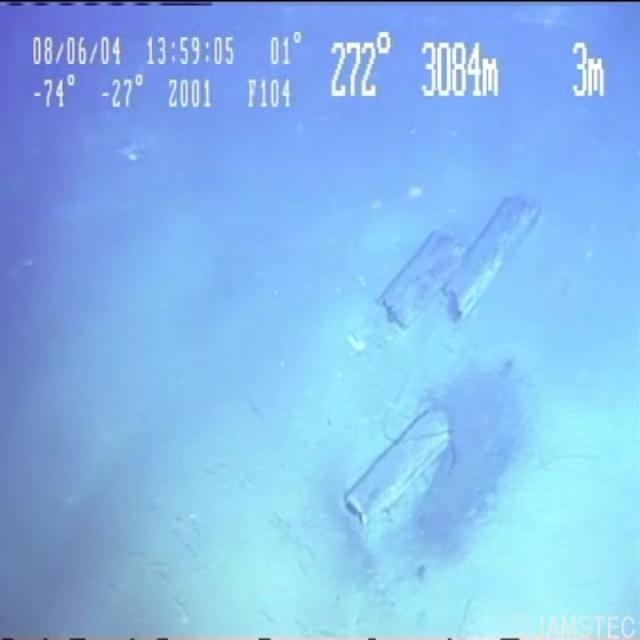Wood: (373, 173, 537, 342), (303, 409, 456, 548)
